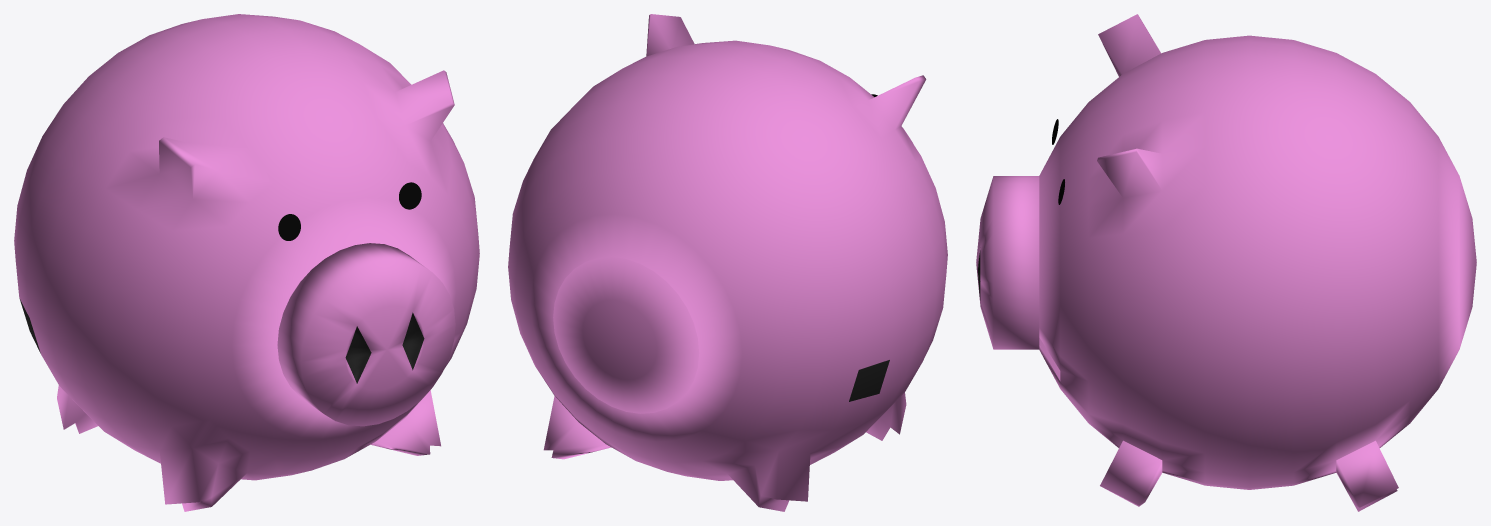
The model's file is piggybank.fbx.
The picture shows the model from 3 angles, left to right: view 1: azimuth 30°, elevation 25°; view 2: azimuth 150°, elevation 25°; view 3: azimuth 270°, elevation 25°; orthographic projection. The views are drawn at different scales.
Parts seen in each view (by area): view 1: Sphere; view 2: Sphere; view 3: Sphere.
Boxes of the visible parts, x1=… form: Sphere: x1=14, y1=14, x2=479, y2=511; Sphere: x1=508, y1=14, x2=947, y2=511; Sphere: x1=976, y1=14, x2=1476, y2=511.
Bounding box in the file's own units: 200 × 200 × 220.
